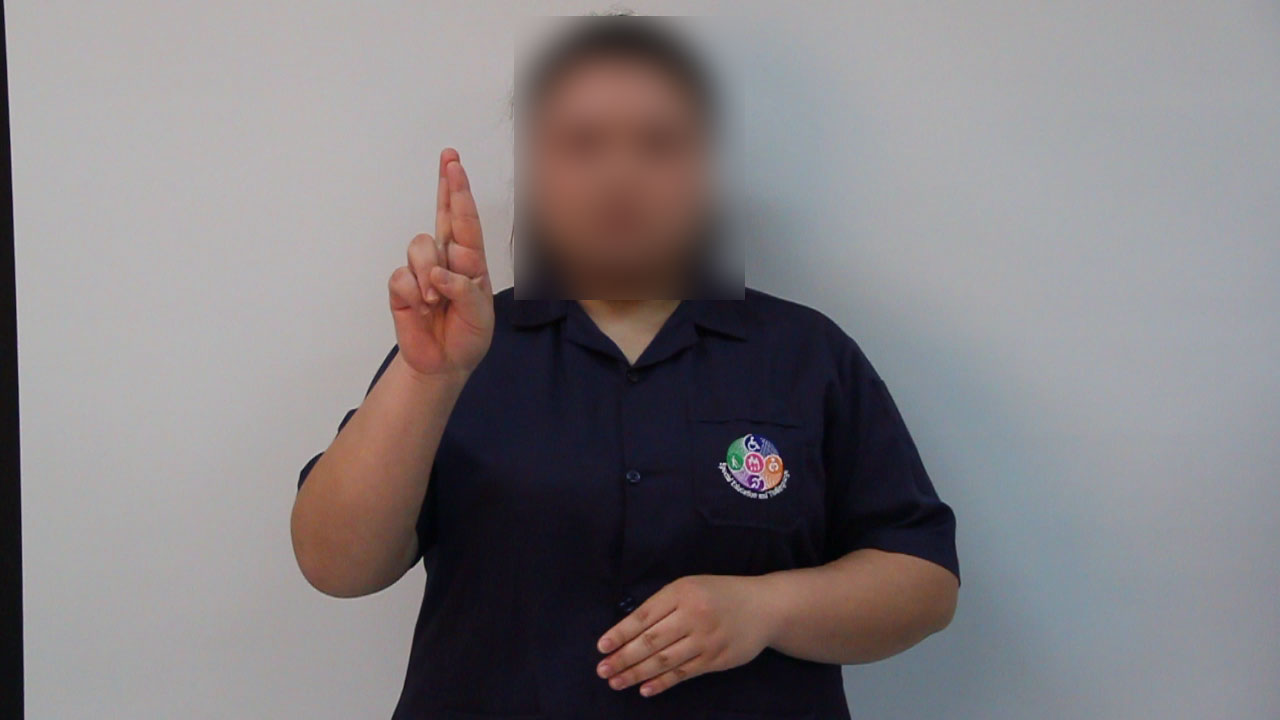rao: (354, 138, 511, 379)
